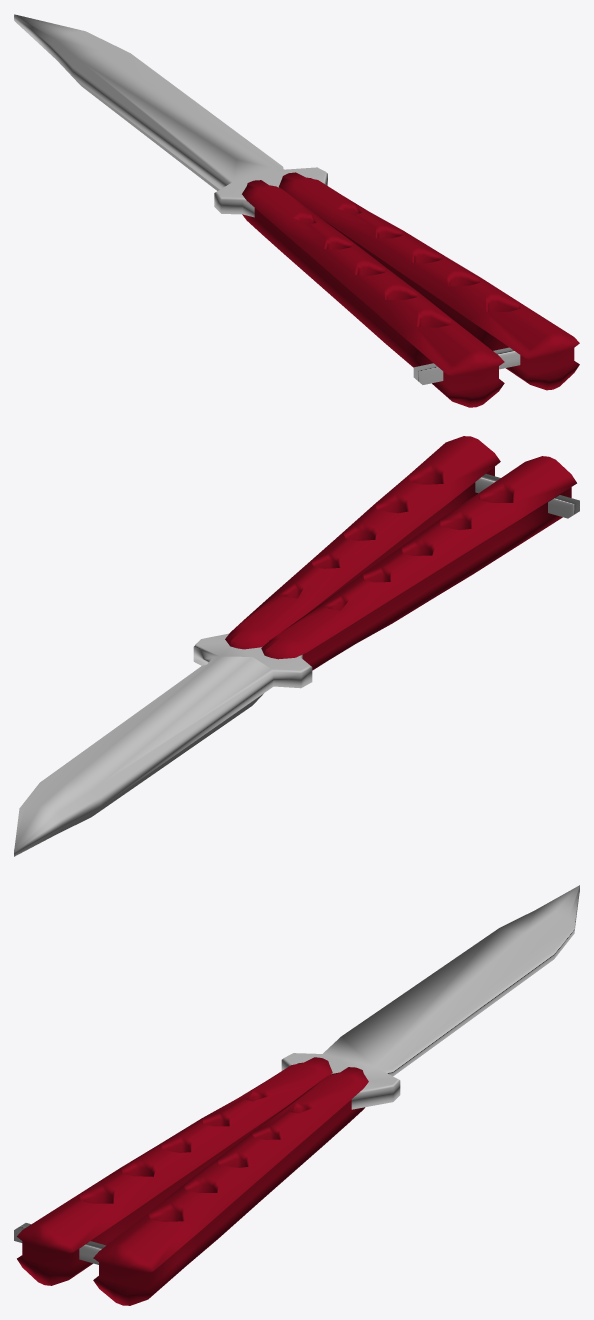
File: knife9.fbx
3 views of the same model, one above another, from view 1: azimuth 30°, elevation 25°; view 2: azimuth 150°, elevation 25°; view 3: azimuth 330°, elevation 25° (orthographic). The views are drawn at different scales.
Parts seen in each view (by area): view 1: knife9.003, knife9.001, knife9, knife9.002; view 2: knife9.003, knife9.001, knife9, knife9.002; view 3: knife9, knife9.001, knife9.003.
Part boxes in pixels (x1,y1,x2,y2): knife9.003: (242, 180, 504, 407); knife9.001: (14, 14, 327, 217); knife9: (279, 172, 579, 390); knife9.002: (413, 347, 520, 384); knife9.003: (261, 456, 576, 670); knife9.001: (14, 633, 312, 856); knife9: (225, 436, 500, 649); knife9.002: (475, 474, 579, 518); knife9: (93, 1067, 368, 1305); knife9.001: (281, 885, 579, 1109); knife9.003: (17, 1057, 332, 1285).
Bounding box in the file's own units: 334 × 124 × 1953.
